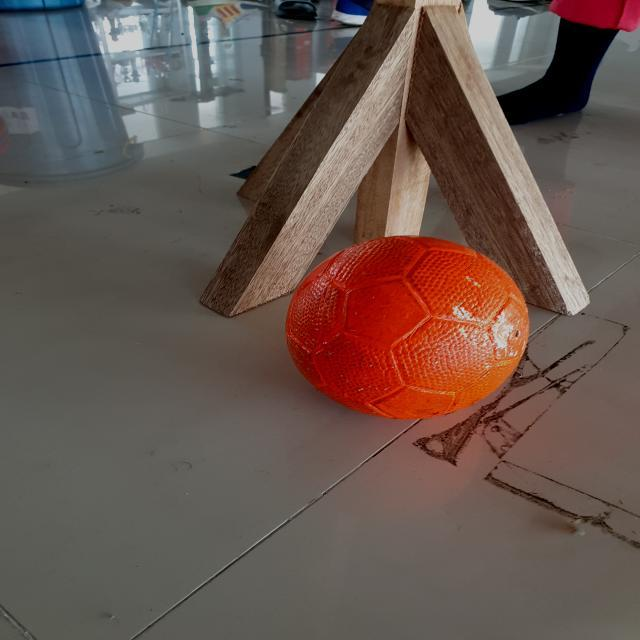bola: (286, 229, 536, 427)
